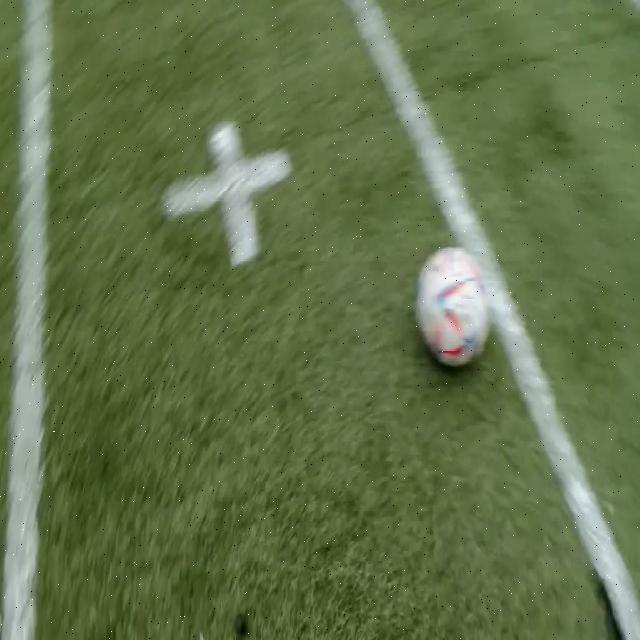ball: (415, 248, 491, 366)
